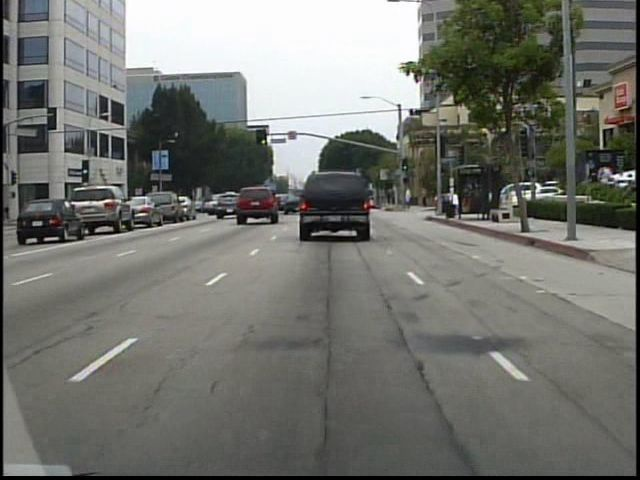person: (403, 184, 416, 212), (420, 181, 432, 210), (384, 184, 395, 208)
